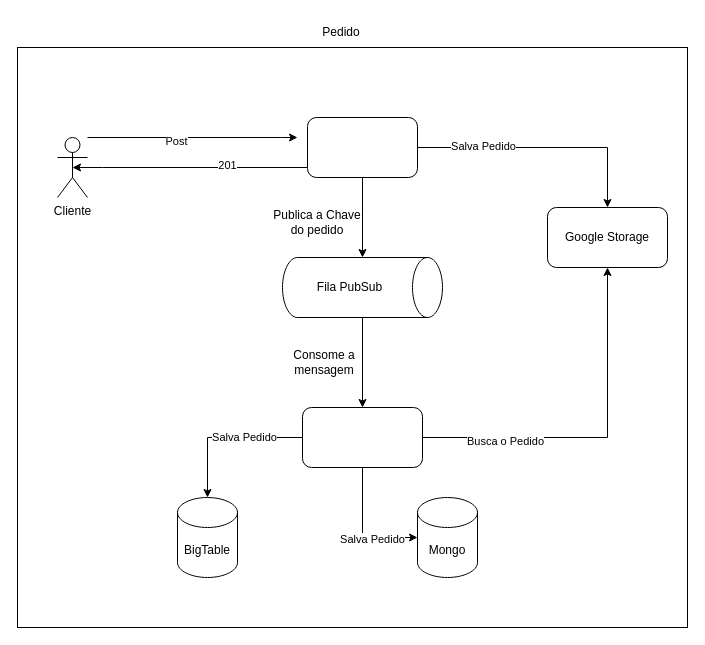
Image size: 705x645. Some labels were removed from this diagram. Here are the shapes that lost their labels. From the top down, the centre of each, then its label:
point (362, 147): API
point (362, 437): Worker
